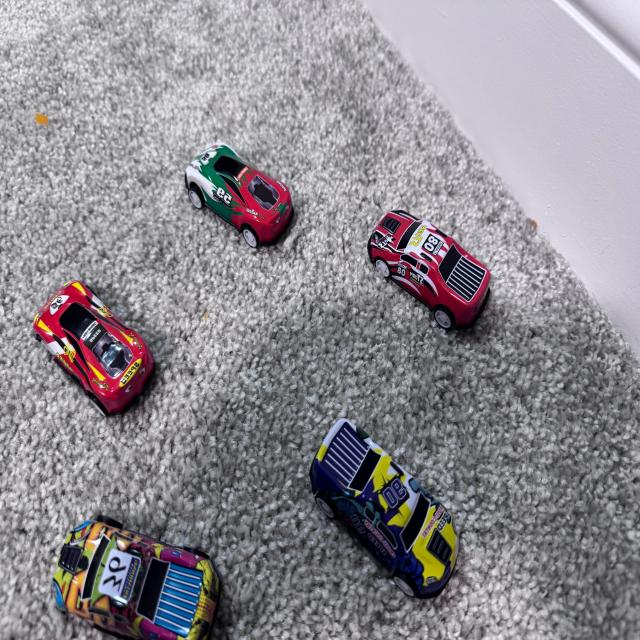Car: (298, 400, 486, 620), (350, 208, 524, 364), (51, 498, 229, 640), (166, 110, 325, 268), (27, 270, 141, 416)
